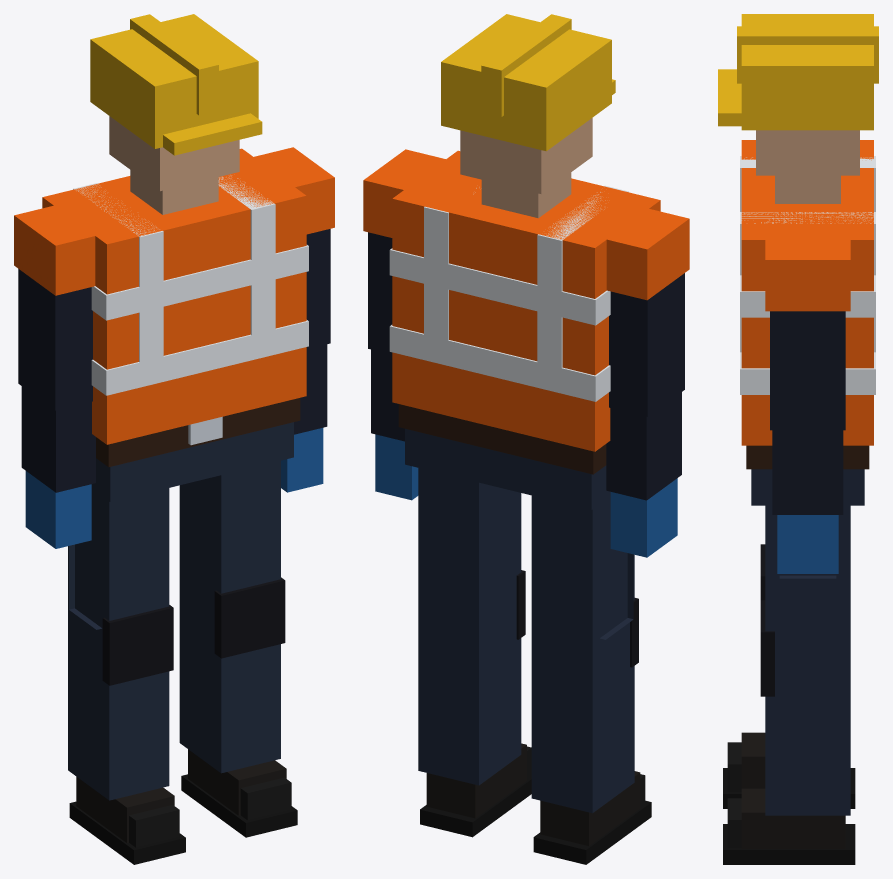
Rendered from logistics_operator.obj.
The picture shows the model from 3 angles, left to right: view 1: azimuth 30°, elevation 25°; view 2: azimuth 150°, elevation 25°; view 3: azimuth 270°, elevation 25°; orthographic projection. The views are drawn at different scales.
Bounding box in the file's own units: 0.7 × 1.85 × 0.34.
